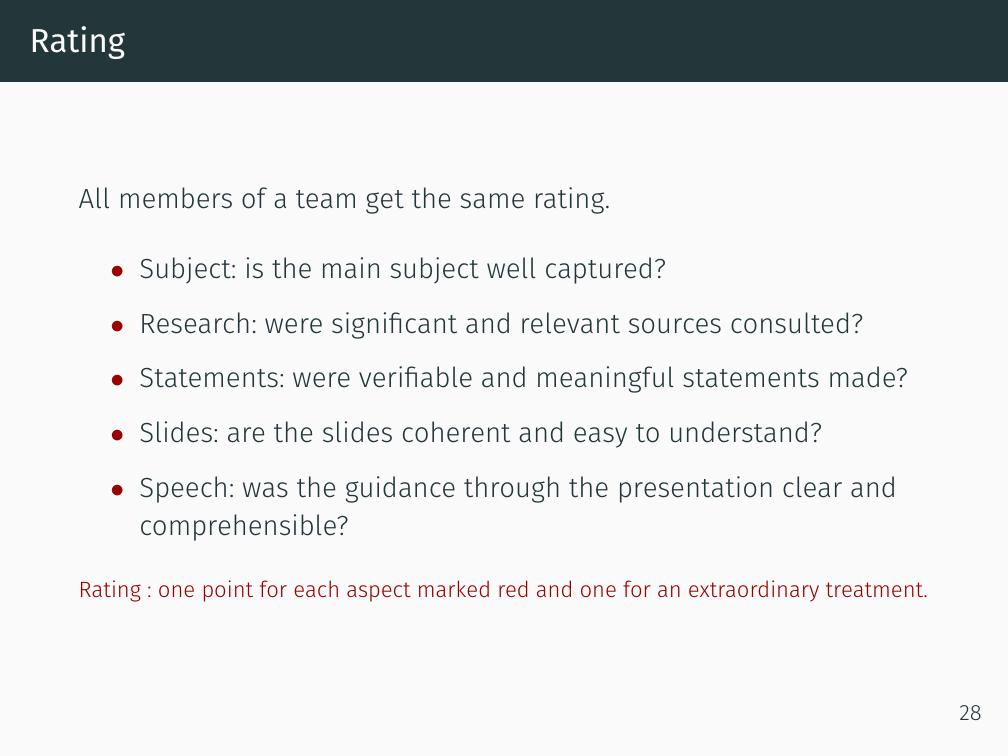Title: (20, 19, 135, 66)
